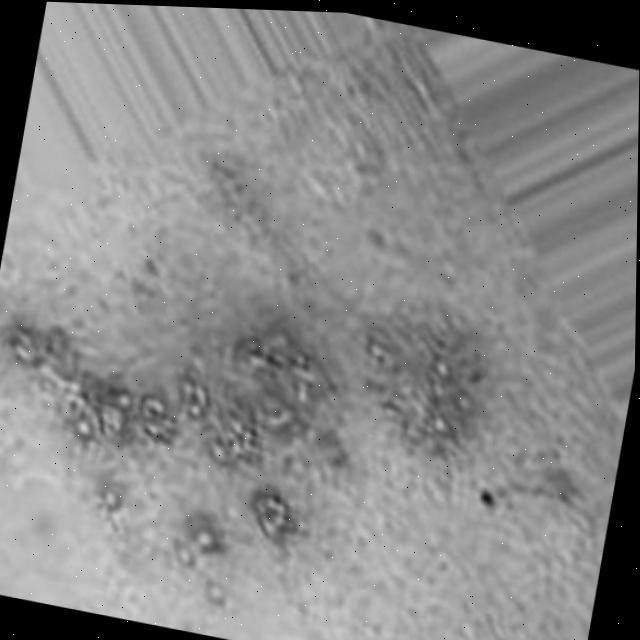Shingles: (0, 253, 483, 608)
